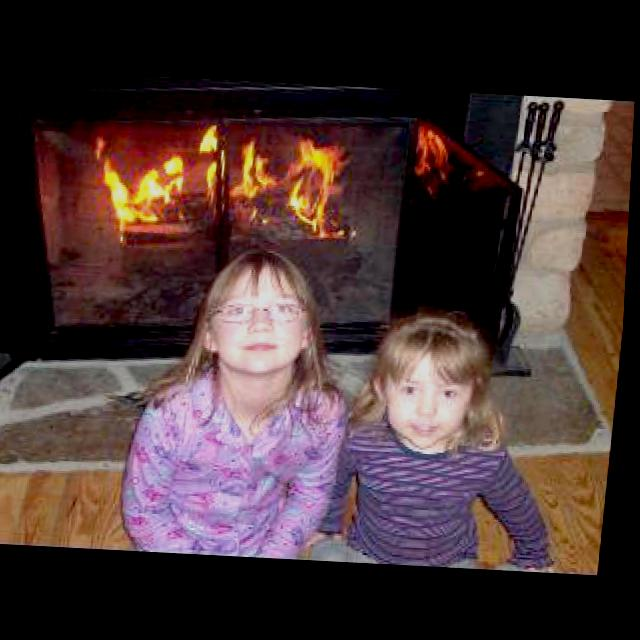helmet: (84, 112, 369, 250), (409, 115, 480, 194)
